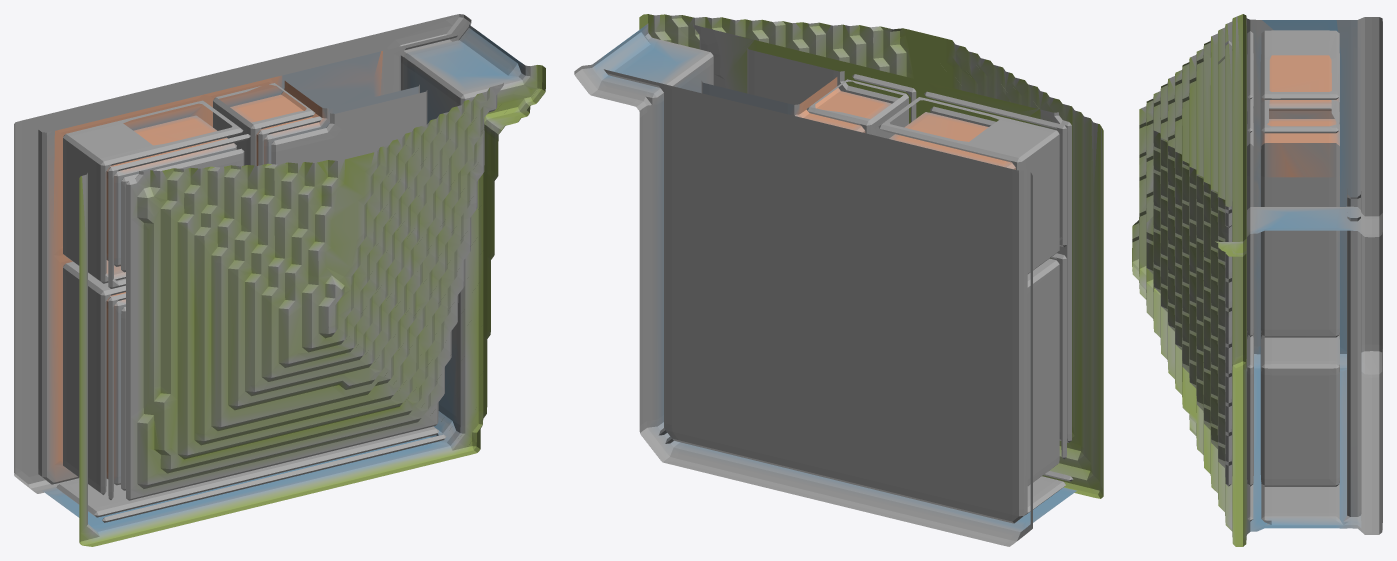
File: 05728_original_cutaway.glb
The picture shows the model from 3 angles, left to right: view 1: azimuth 30°, elevation 25°; view 2: azimuth 150°, elevation 25°; view 3: azimuth 270°, elevation 25°; orthographic projection. The views are drawn at different scales.
Visible parts, largest first — view 1: world; view 2: world; view 3: world.
Part boxes in pixels (x1,y1,x2,y2): world: (14,14,545,546); world: (574,14,1103,546); world: (1132,14,1382,546).
Bounding box in the file's own units: 70.9 × 53.97 × 34.99.
